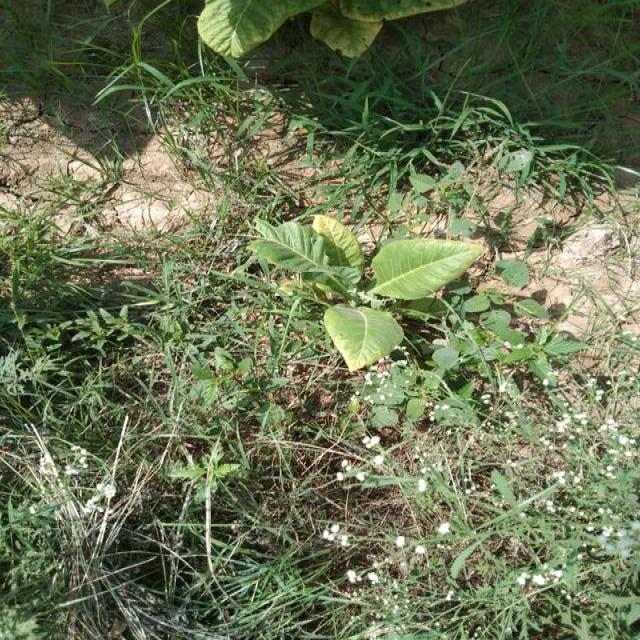crop: (247, 214, 481, 369), (207, 0, 322, 50)
